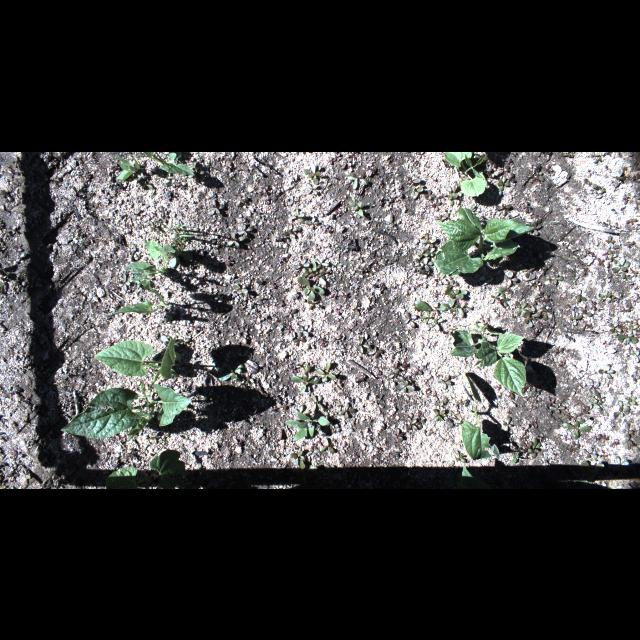crop: (60, 381, 192, 441), (434, 207, 534, 276), (450, 321, 526, 397), (94, 338, 182, 390), (103, 448, 185, 488), (108, 276, 168, 316), (125, 239, 175, 287), (460, 401, 500, 461), (444, 152, 486, 196), (120, 151, 194, 175), (458, 465, 482, 487)
weed: (285, 405, 331, 441), (116, 154, 154, 188), (414, 299, 450, 331), (561, 412, 591, 438), (444, 288, 468, 318), (168, 232, 186, 268), (298, 277, 324, 301), (580, 461, 606, 485), (218, 363, 244, 383), (290, 376, 318, 392), (617, 322, 637, 344), (302, 259, 322, 279), (316, 362, 336, 382), (612, 256, 630, 278), (304, 162, 320, 185), (292, 258, 310, 278), (609, 167, 627, 187), (227, 230, 246, 248), (614, 399, 632, 418), (522, 310, 540, 328), (346, 174, 369, 188), (290, 450, 306, 470), (489, 283, 505, 303), (485, 155, 501, 175), (445, 183, 459, 205), (346, 200, 364, 217), (290, 206, 306, 224), (238, 222, 256, 238), (366, 342, 384, 358), (504, 271, 522, 287), (420, 233, 436, 251), (338, 404, 358, 418), (406, 416, 426, 430), (358, 334, 372, 354), (622, 422, 636, 442), (388, 368, 407, 382), (599, 363, 615, 379), (520, 262, 536, 278), (116, 274, 130, 292), (210, 198, 224, 216), (416, 257, 434, 271), (395, 380, 415, 392), (528, 438, 540, 458), (595, 289, 615, 301), (284, 224, 300, 238), (310, 395, 324, 411), (320, 438, 334, 454), (438, 374, 452, 390), (515, 300, 529, 316), (568, 310, 582, 326), (406, 186, 424, 198), (620, 432, 632, 450), (404, 310, 416, 328), (570, 289, 588, 301), (547, 272, 565, 284), (432, 408, 446, 422), (528, 220, 542, 234), (232, 283, 248, 295), (313, 256, 329, 268), (392, 428, 404, 444), (586, 380, 598, 396), (496, 203, 512, 215), (502, 416, 512, 434), (548, 404, 566, 414), (574, 306, 592, 316), (590, 186, 606, 197), (493, 163, 509, 174), (294, 332, 306, 346), (454, 449, 466, 463), (520, 440, 534, 452), (444, 278, 458, 290), (526, 300, 538, 314), (504, 172, 516, 186), (608, 320, 622, 332), (305, 218, 321, 228), (510, 453, 526, 463), (500, 292, 510, 308), (498, 176, 508, 192), (236, 192, 248, 205), (306, 182, 318, 194), (341, 156, 353, 168), (586, 399, 602, 408), (615, 456, 629, 466), (584, 448, 598, 458), (406, 262, 420, 272), (583, 177, 597, 187), (424, 190, 436, 200), (413, 365, 425, 375), (608, 250, 618, 262), (417, 249, 428, 259), (606, 235, 614, 248), (565, 304, 575, 314), (628, 324, 638, 334), (631, 350, 639, 362), (590, 152, 600, 160), (596, 256, 604, 266), (589, 299, 597, 309), (560, 152, 574, 156)
